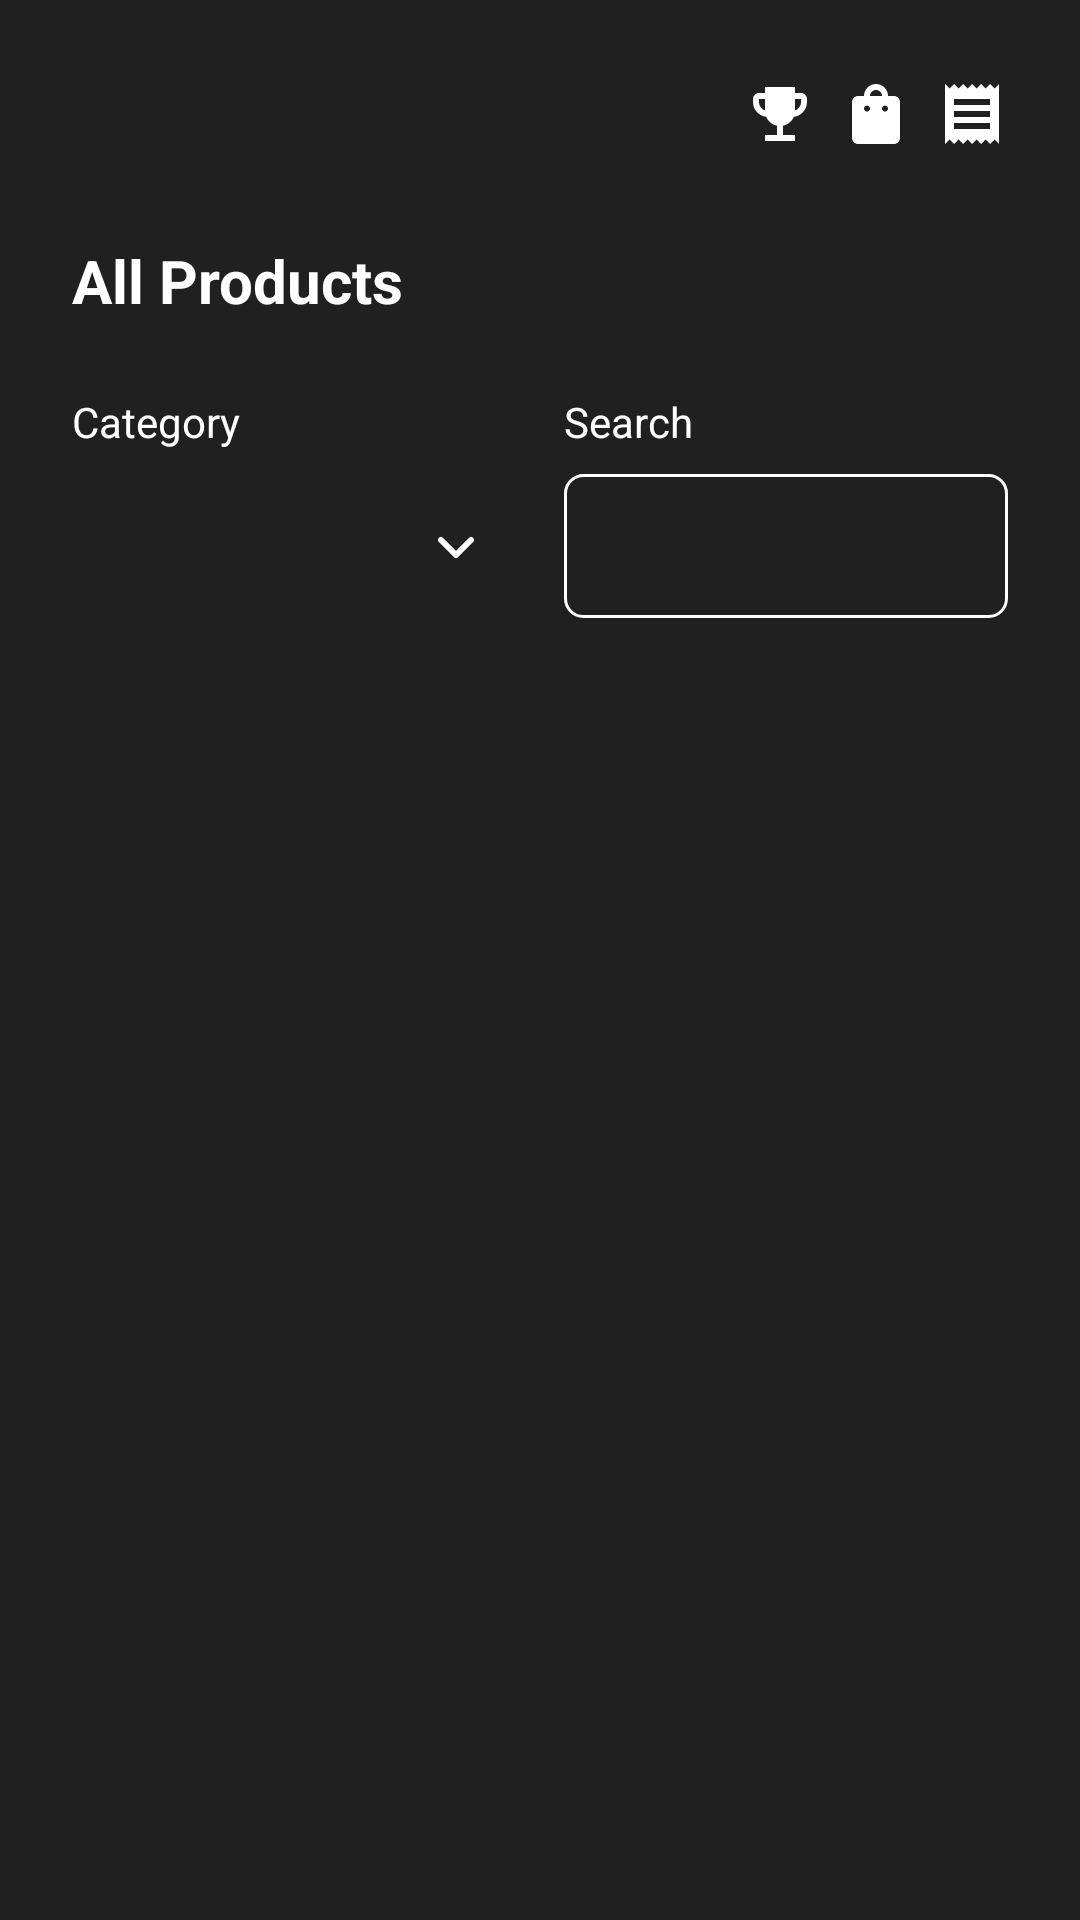

Icon click points for this 1080x1920 phone screenshot, format (x,y):
Cart: (876,114)
Order History: (972,114)
